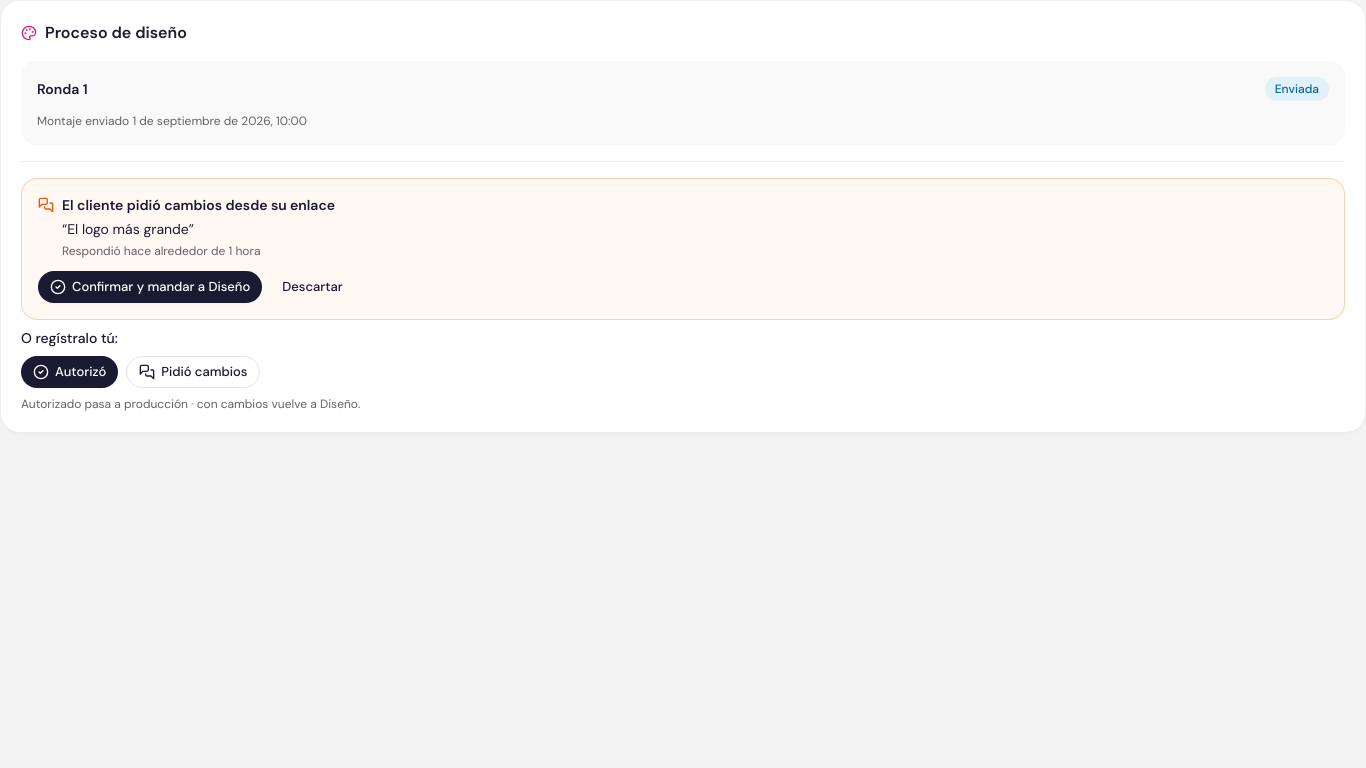
DesignFlowSection - el cliente respondió desde su enlace › pidió cambios: confirmar abre 'Pidió cambios' con su comentario ya escrito
The width and height of the screenshot is (1366, 768).
Click the button "Confirmar y mandar a Diseño": {"x": 150, "y": 287} [38,271,262,303]
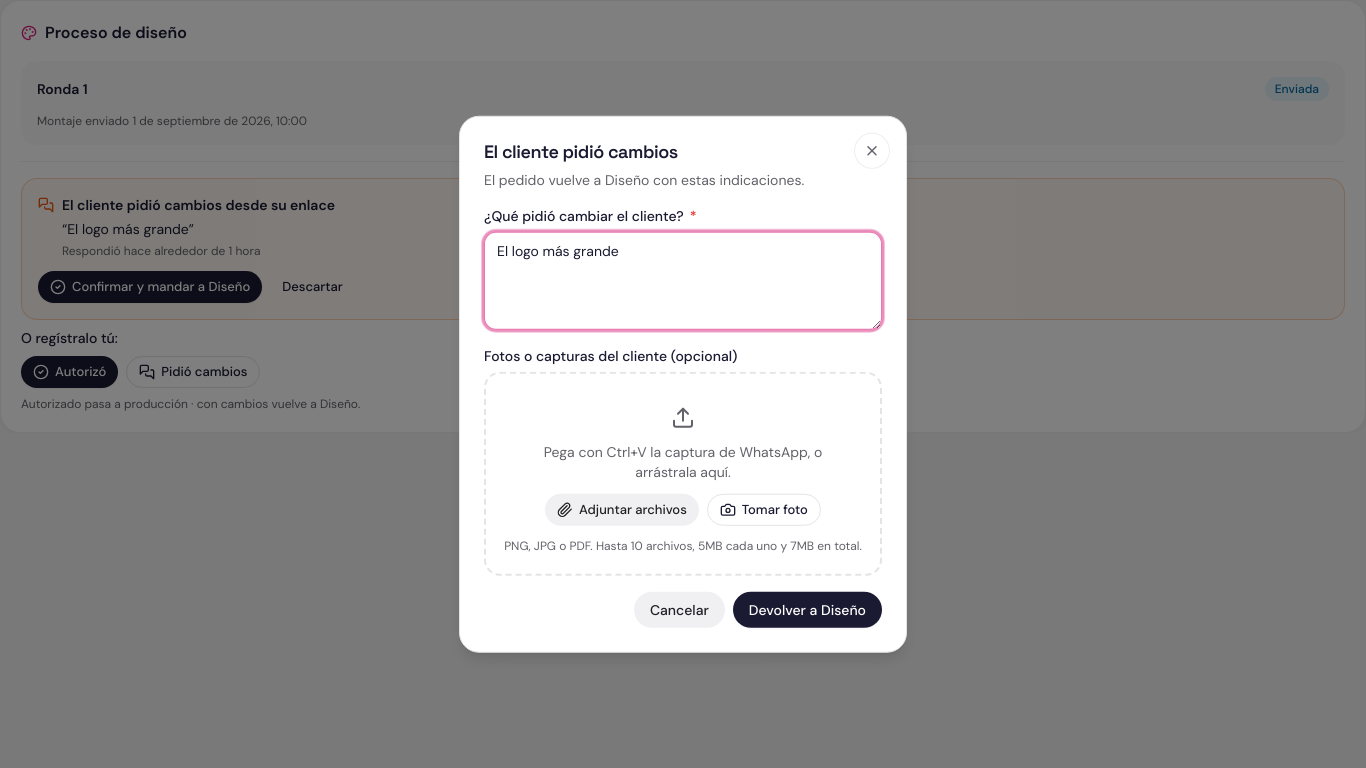
Now the dialog shows "El cliente pidió cambios", box [484,140,678,163]
Now the text box with placeholder "Ej.: agrandar el logo, cambiar el color a azul…" holds "El logo más grande", box [484,231,882,329]
